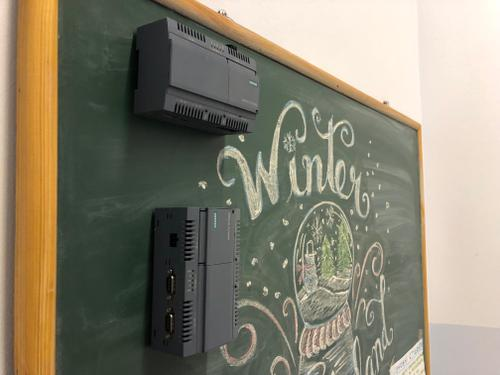device: (133, 16, 258, 135), (150, 207, 240, 357)
